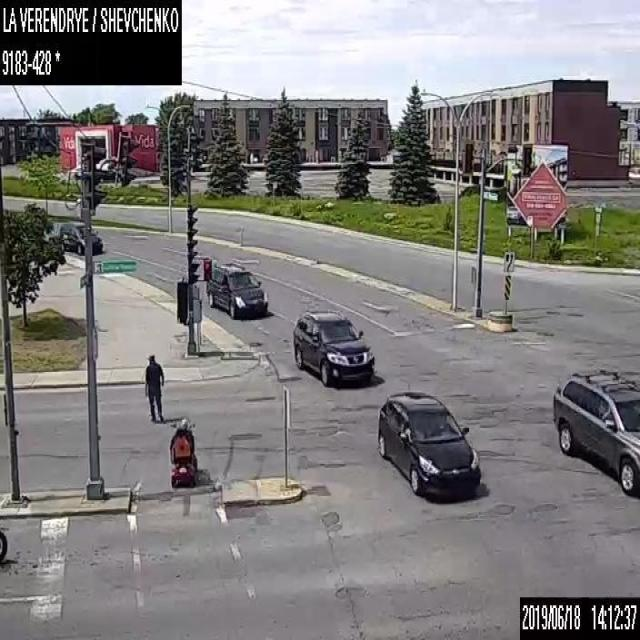pedestrian: (168, 416, 197, 488), (144, 354, 164, 422)
vehicle: (376, 389, 481, 496), (552, 367, 639, 496), (292, 308, 377, 387), (205, 260, 267, 319), (56, 221, 102, 255), (0, 524, 7, 563)
